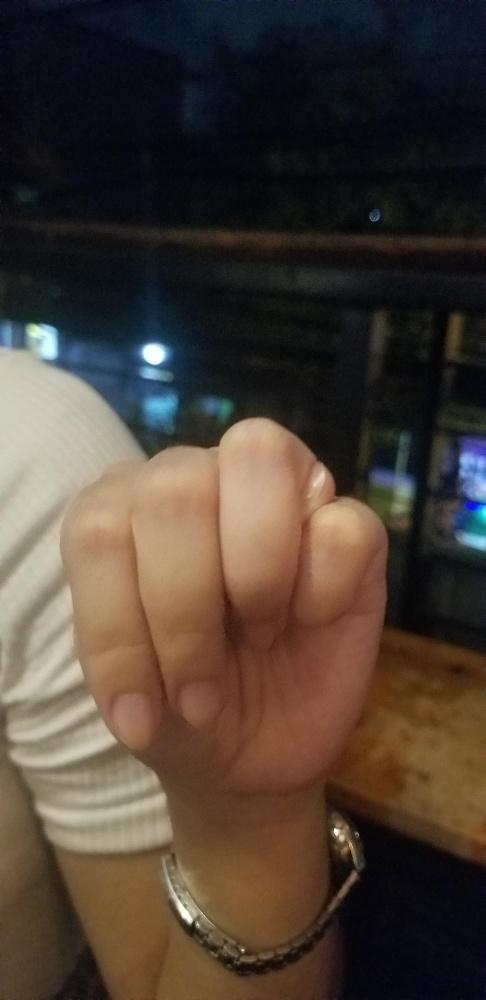m: (59, 414, 387, 795)
